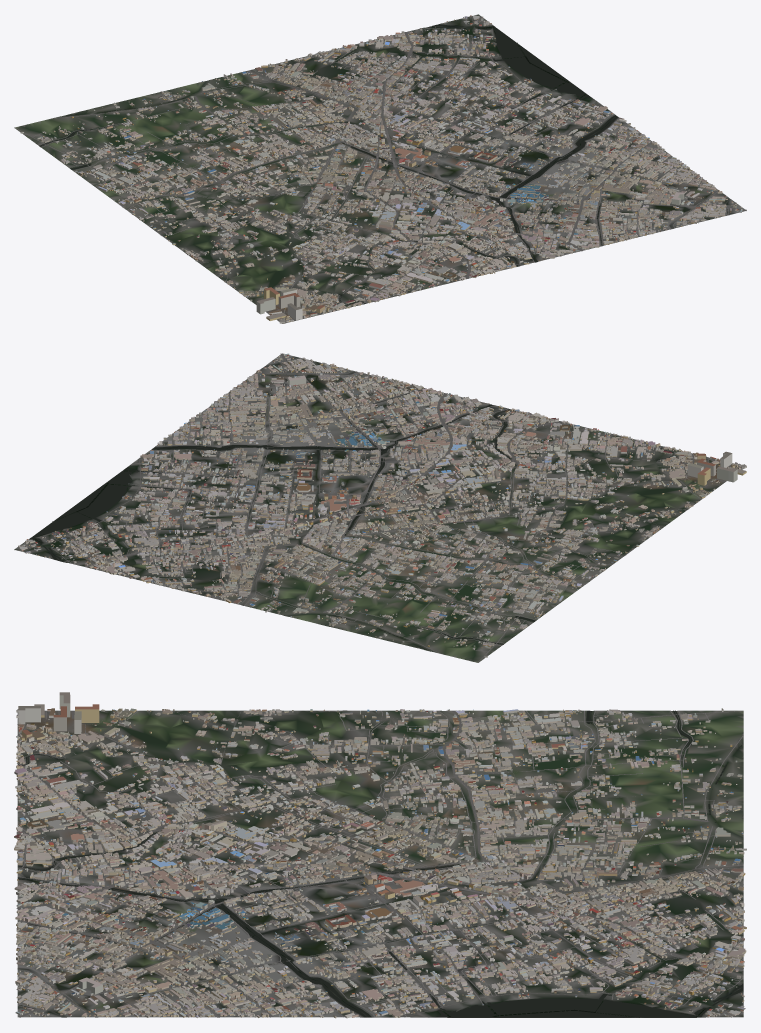
3 views of the same model, one above another, from view 1: azimuth 30°, elevation 25°; view 2: azimuth 150°, elevation 25°; view 3: azimuth 270°, elevation 25° (orthographic). The views are drawn at different scales.
Parts seen in each view (by area): view 1: buildings, ground, roads, water; view 2: buildings, ground, roads, water; view 3: buildings, ground, roads, water.
Part boxes in pixels (x1=…): buildings: x1=20, y1=15, x2=742, y2=323; ground: x1=14, y1=14, x2=746, y2=323; roads: x1=15, y1=16, x2=746, y2=321; water: x1=39, y1=24, x2=728, y2=304; buildings: x1=18, y1=353, x2=746, y2=657; ground: x1=14, y1=353, x2=743, y2=662; roads: x1=20, y1=353, x2=733, y2=662; water: x1=30, y1=358, x2=674, y2=649; buildings: x1=14, y1=692, x2=746, y2=1018; ground: x1=17, y1=710, x2=743, y2=1017; roads: x1=16, y1=710, x2=743, y2=1017; water: x1=17, y1=710, x2=743, y2=1017.
Size of the model in its own units: 2846 by 64.98 by 2828.
